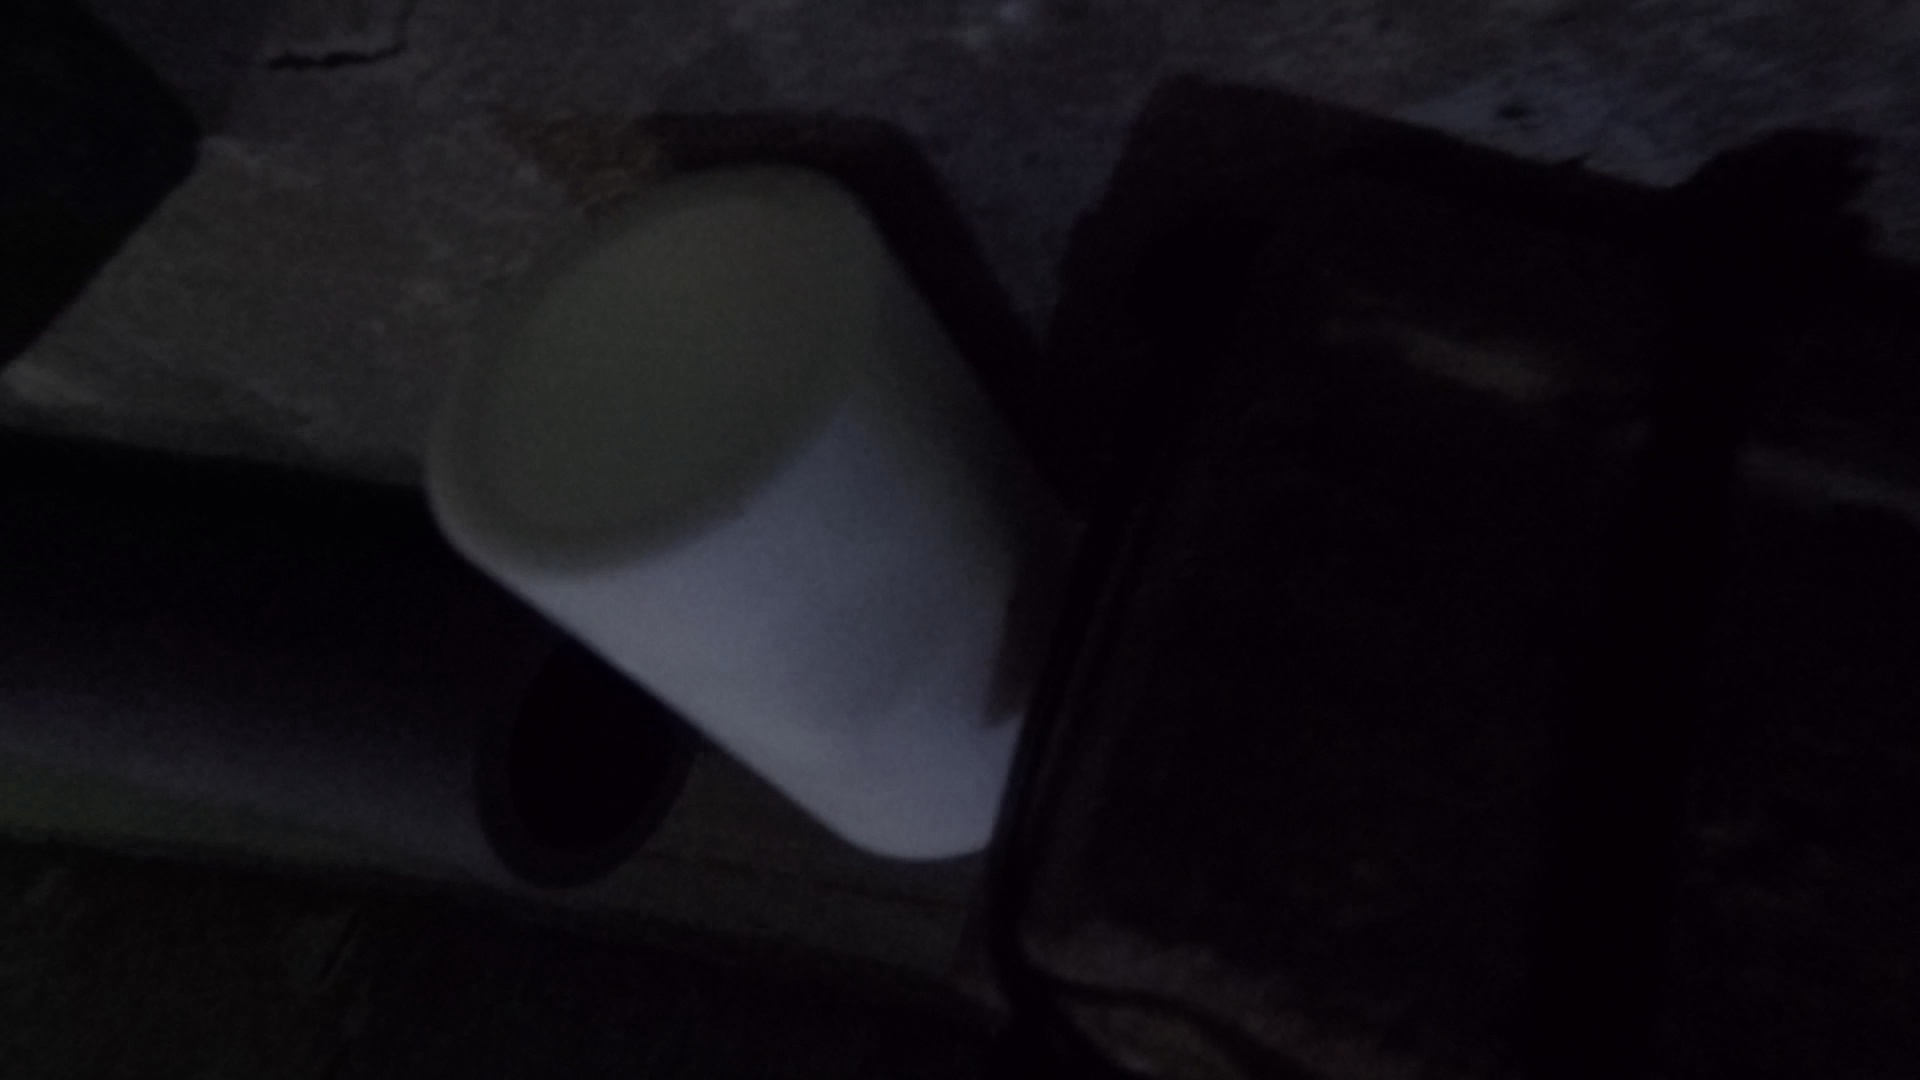led_block: (1018, 54, 1602, 1080)
pipe: (429, 178, 1036, 862), (1, 427, 703, 901)
